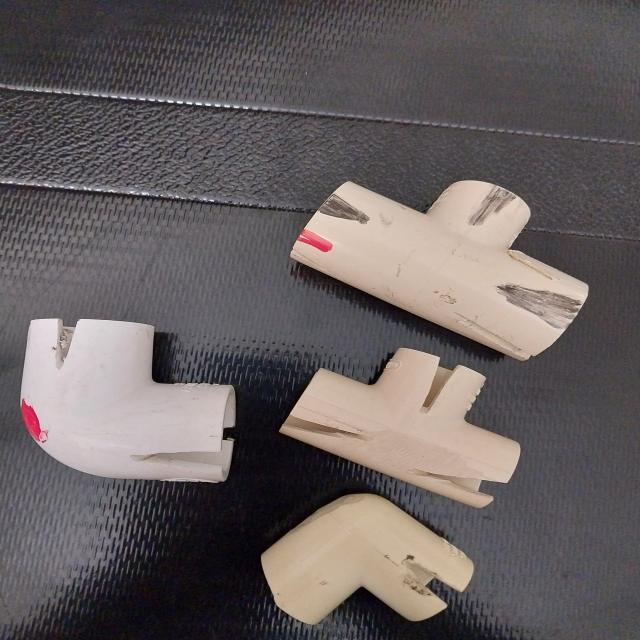Defective: (494, 284, 580, 327), (125, 440, 230, 474), (415, 472, 501, 508), (284, 409, 365, 447), (423, 362, 456, 412), (471, 184, 507, 224), (54, 322, 80, 371), (316, 200, 368, 223), (297, 233, 333, 261)
L Joint: (21, 323, 241, 482), (263, 494, 472, 624)
T Joint: (288, 178, 590, 354), (278, 346, 516, 496)
